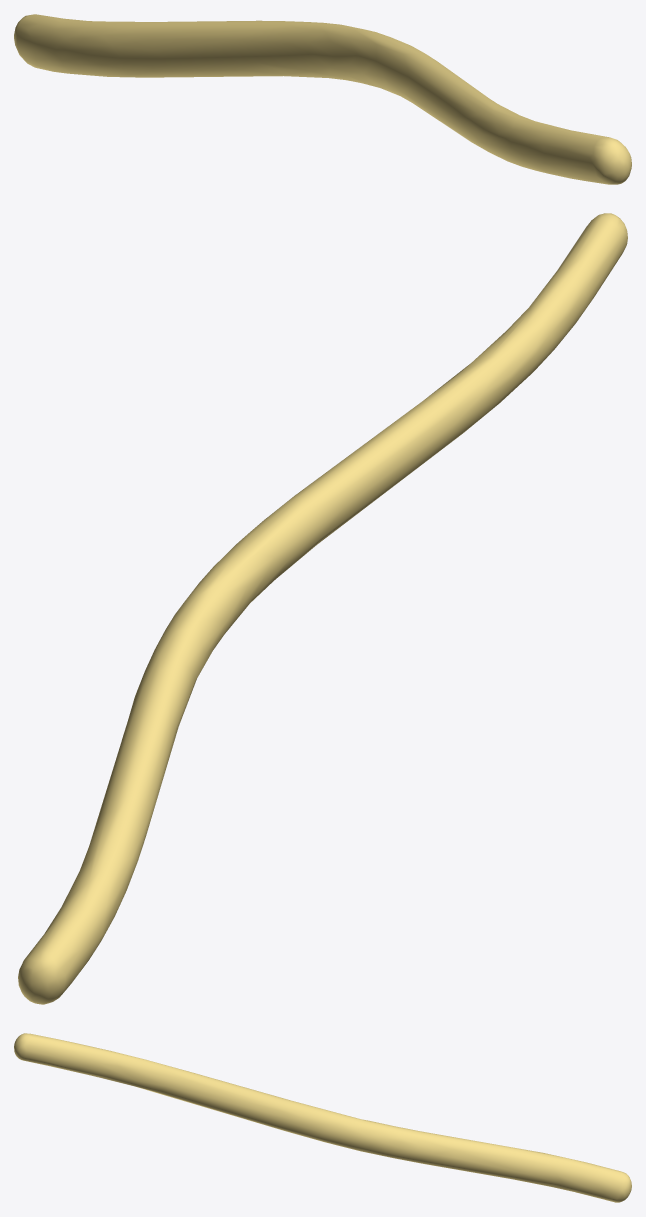
Rendered from fma52622_fj4019.glb.
The picture shows the model from 3 angles, top to bottom: view 1: azimuth 30°, elevation 25°; view 2: azimuth 150°, elevation 25°; view 3: azimuth 270°, elevation 25°; orthographic projection. The views are drawn at different scales.
Parts seen in each view (by area): view 1: FMA52622_FJ4019; view 2: FMA52622_FJ4019; view 3: FMA52622_FJ4019.
Part boxes in pixels (x1=…): FMA52622_FJ4019: x1=14, y1=14, x2=631, y2=184; FMA52622_FJ4019: x1=18, y1=213, x2=627, y2=1004; FMA52622_FJ4019: x1=14, y1=1033, x2=631, y2=1202.
Size of the model in its own units: 0.00504 by 0.012 by 0.0386.
